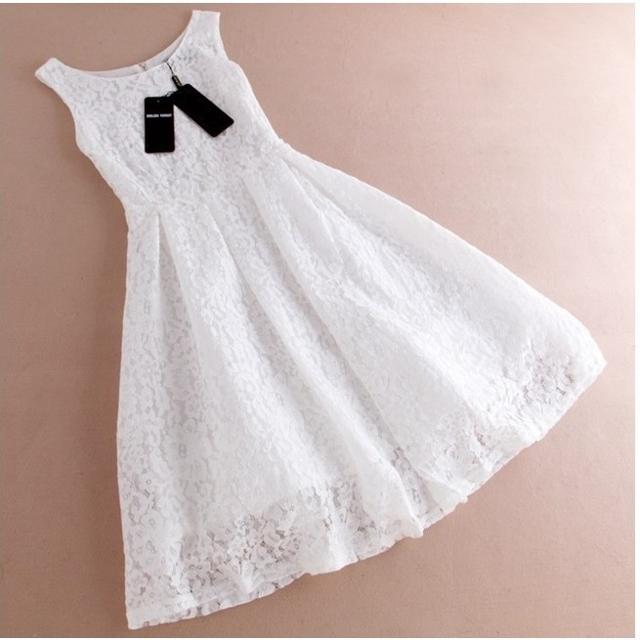Dresses: (34, 10, 605, 630)
